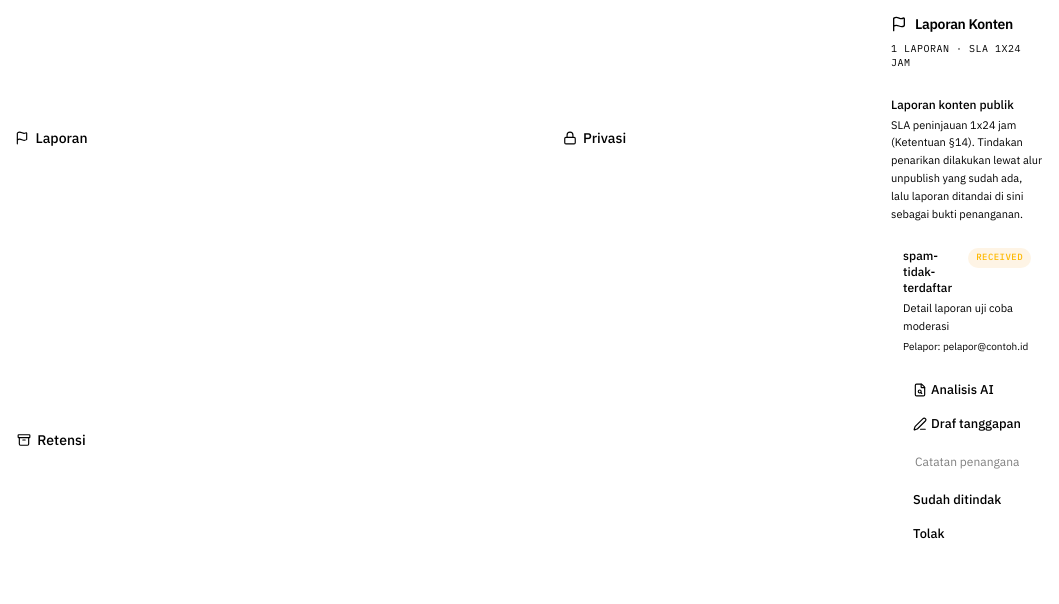
Scenario: Panel moderasi › menandai laporan sudah ditindak setelah konfirmasi
Expected: the text "Detail laporan uji coba moderasi" is shown, [903, 300, 1031, 336]
Click the button "Sudah ditindak" at (957, 500), box [903, 486, 1011, 514]
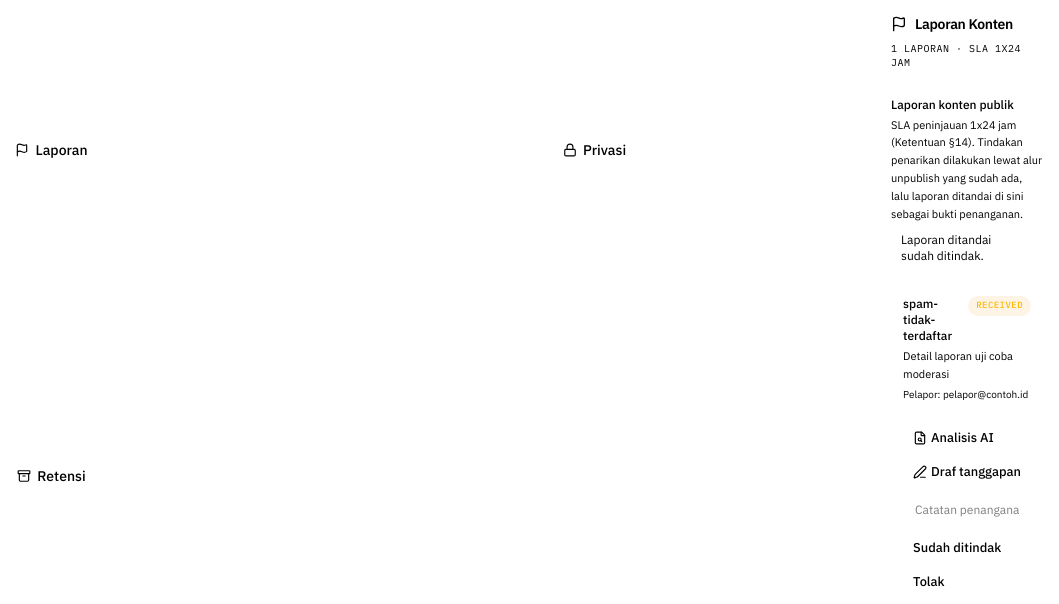
Now the text "Laporan ditandai sudah ditindak." is shown, box [901, 232, 991, 263]
